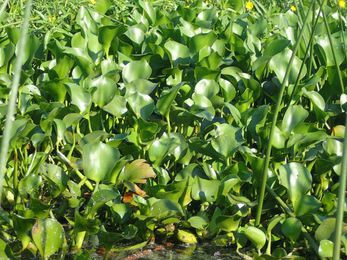water_hyacinth: (0, 9, 347, 260)
